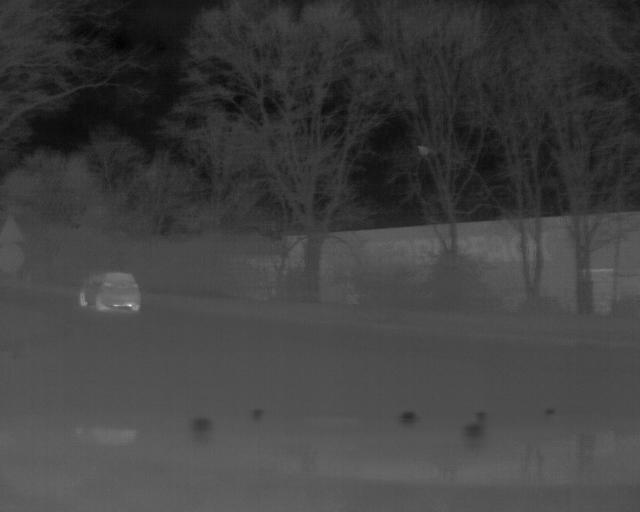car: (78, 269, 142, 311)
